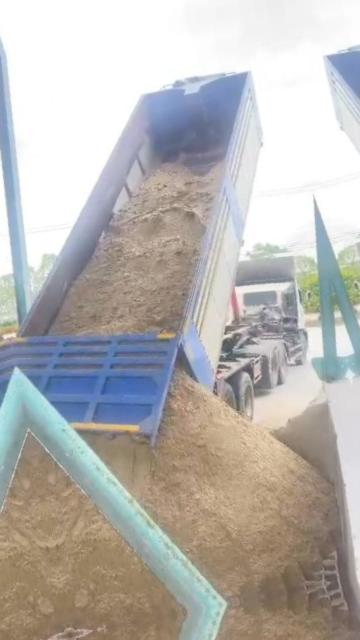sand: (88, 359, 338, 602), (50, 163, 221, 334), (31, 437, 176, 629), (274, 390, 336, 481)
